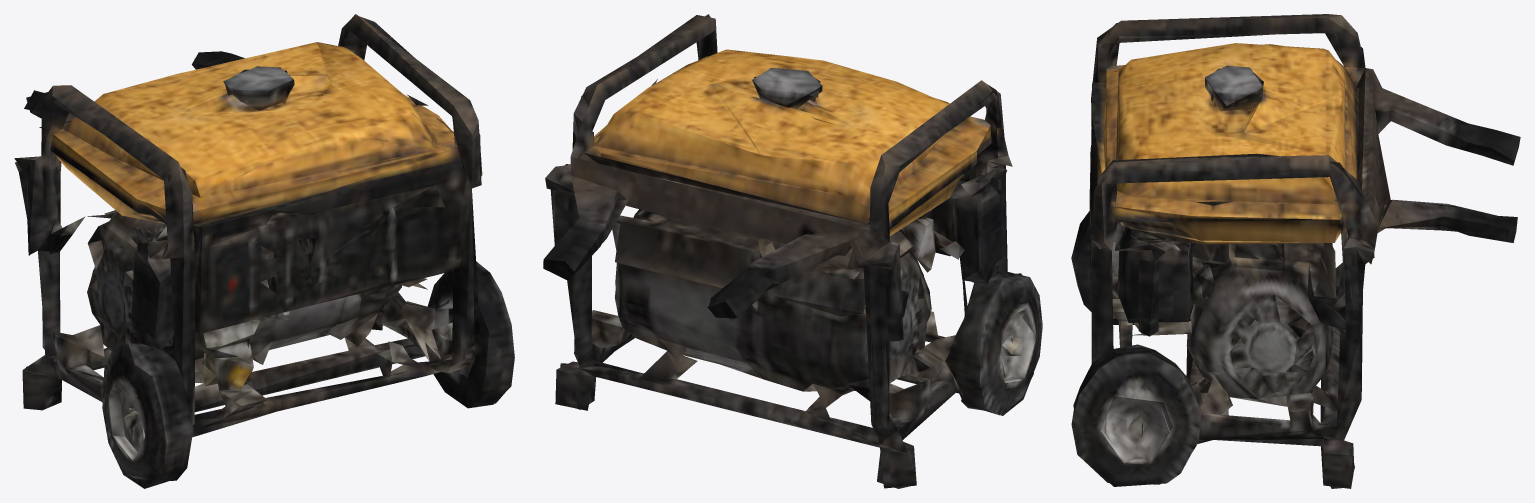
The model's file is p7-portable-generator.glb.
3 renders of one model, left to right at view 1: azimuth 30°, elevation 25°; view 2: azimuth 150°, elevation 25°; view 3: azimuth 270°, elevation 25°, orthographic.
Parts seen in each view (by area): view 1: p7-portable-generator; view 2: p7-portable-generator; view 3: p7-portable-generator.
Boxes of the visible parts, x1,y1,x2,y2 form: p7-portable-generator: (14, 14, 514, 488); p7-portable-generator: (543, 14, 1042, 488); p7-portable-generator: (1071, 14, 1520, 488).
Size of the model in its own units: 0.65 by 0.55 by 0.6914.
1 material, 1 textured.
